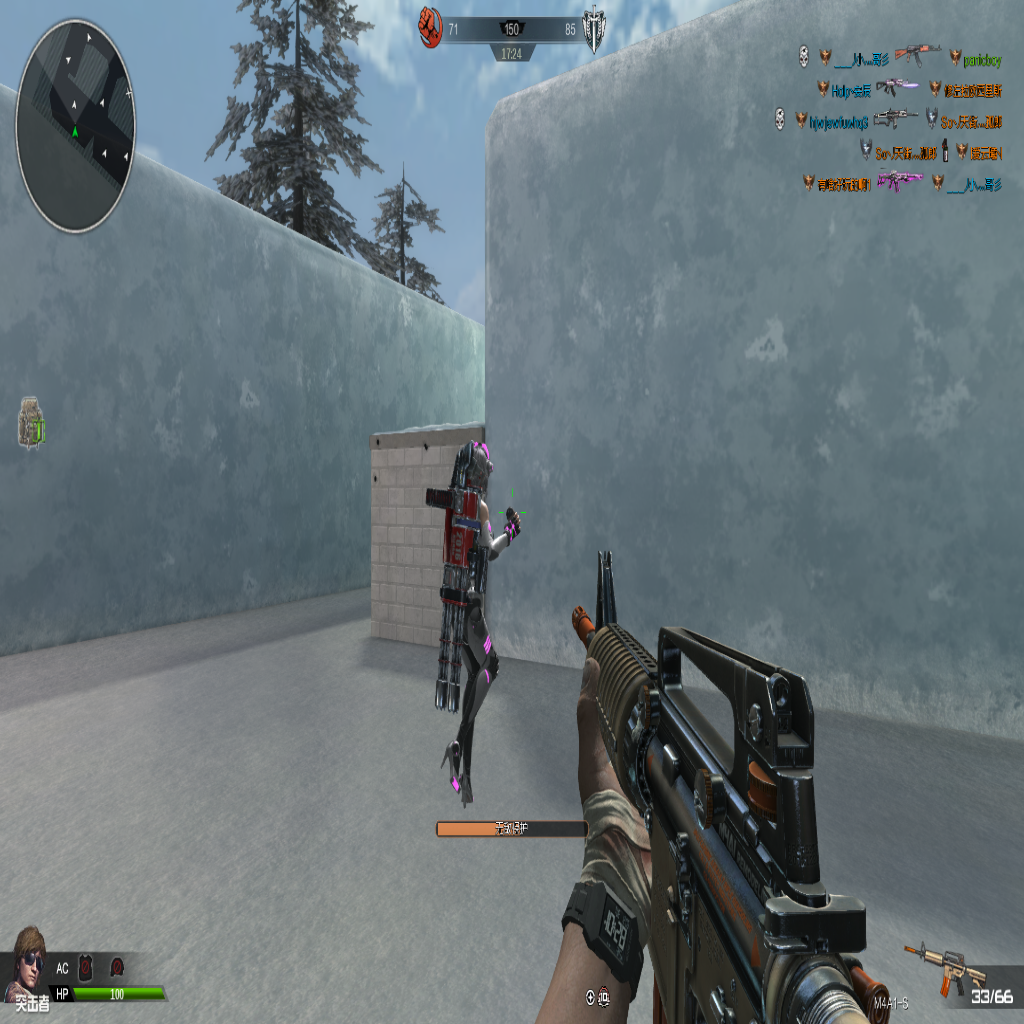tt: (441, 436, 529, 806)
